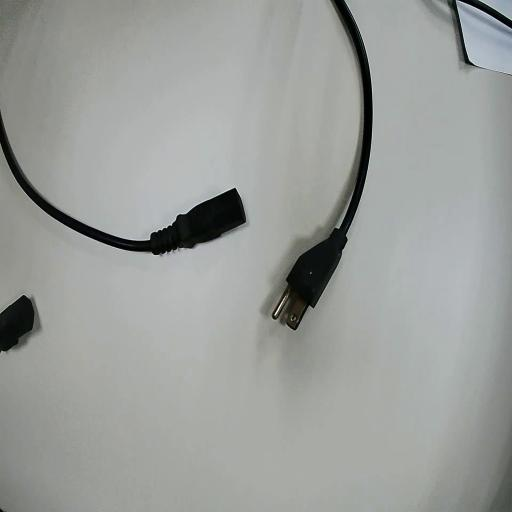wire: (283, 0, 371, 328)
